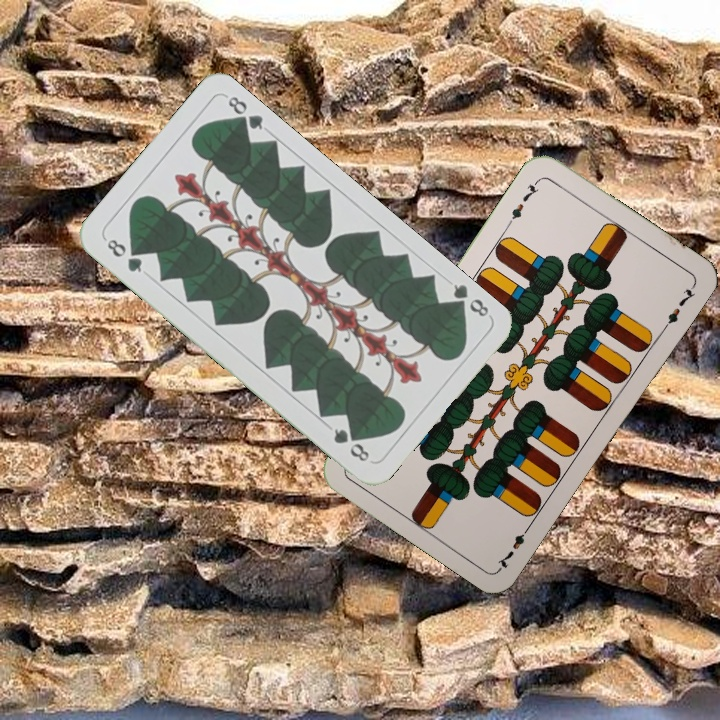E7: (493, 520, 534, 572), (504, 175, 542, 228)
G8: (446, 279, 493, 320), (102, 234, 145, 276)
